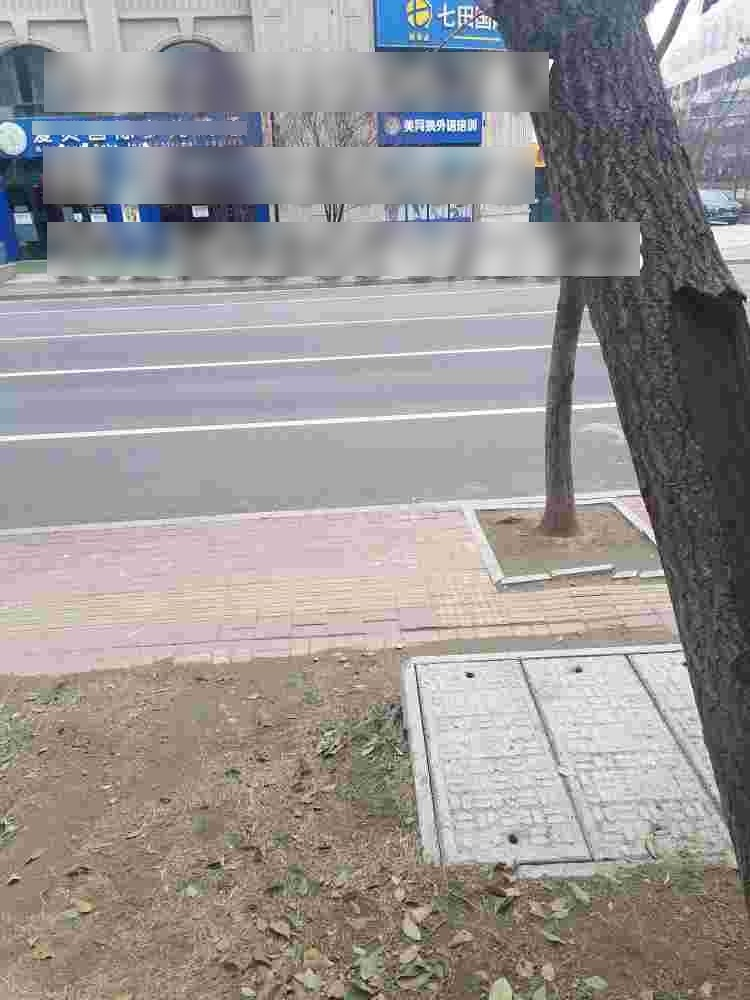good: (401, 643, 750, 879)
